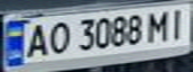0: (93, 15, 112, 49)
3: (75, 16, 96, 52)
8: (124, 11, 148, 46), (109, 12, 130, 48)
A: (21, 20, 51, 58)
I: (163, 4, 193, 40)
M: (145, 8, 172, 43)
O: (42, 19, 72, 56)
